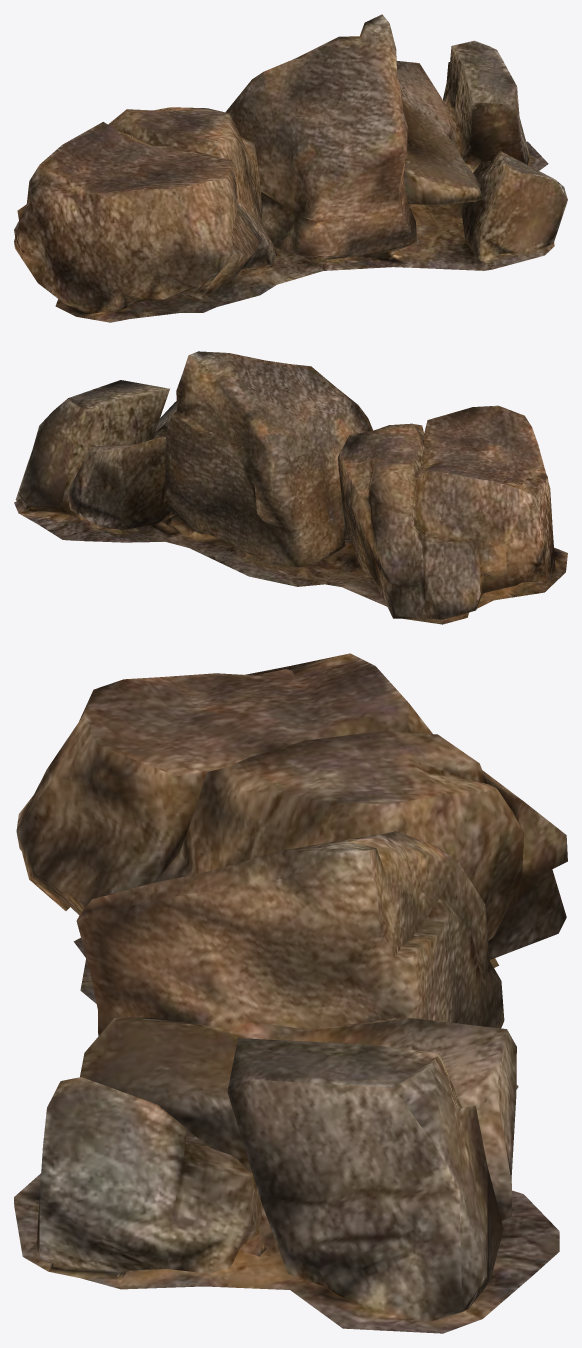
The model's file is rock.glb.
3 views of the same model, one above another, from view 1: azimuth 30°, elevation 25°; view 2: azimuth 150°, elevation 25°; view 3: azimuth 270°, elevation 25° (orthographic). The views are drawn at different scales.
Parts seen in each view (by area): view 1: boulder_02; view 2: boulder_02; view 3: boulder_02.
Boxes of the visible parts, bbox=[...] form: boulder_02: bbox=[14, 14, 567, 322]; boulder_02: bbox=[14, 351, 567, 624]; boulder_02: bbox=[14, 653, 567, 1333].
Bounding box in the file's own units: 2.51 × 0.8563 × 1.23.
Materials: 1 (1 with a texture image).
